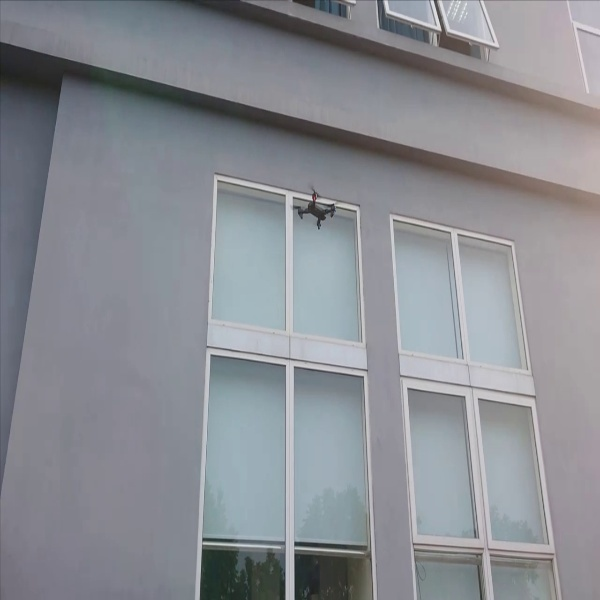drone: (290, 185, 339, 233)
